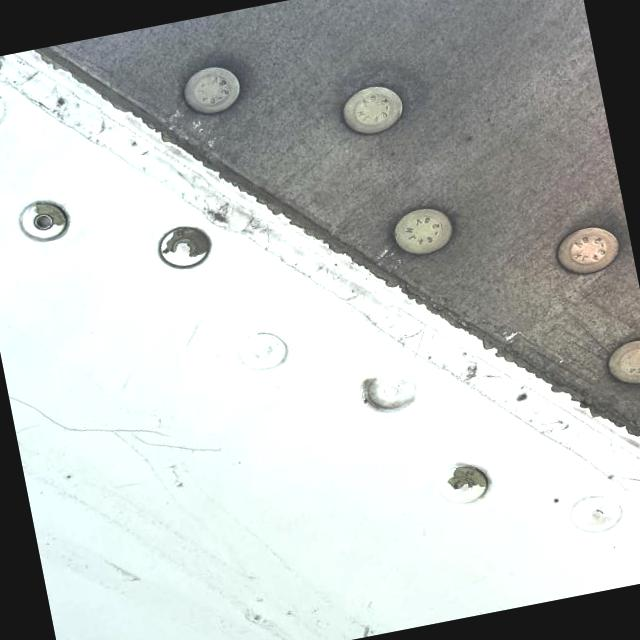crack: (9, 359, 224, 494)
